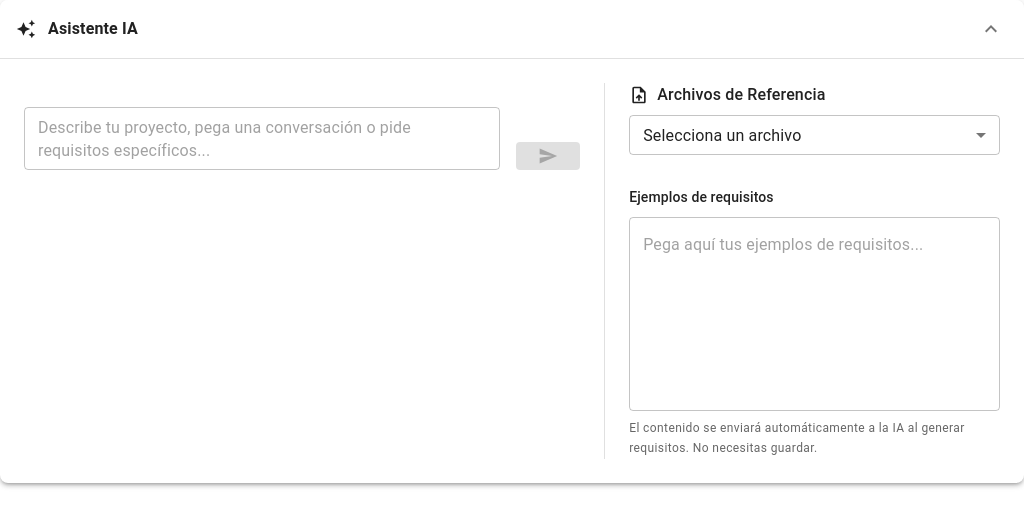
ChatArea › shows error message when sending fails
The width and height of the screenshot is (1024, 505).
Type "Mensaje fallido" into the text box with placeholder "Describe tu proyecto, pega una conversación o pide requisitos específicos...".
click(262, 138); type("Mensaje fallido")  # box [38,116,486,162]
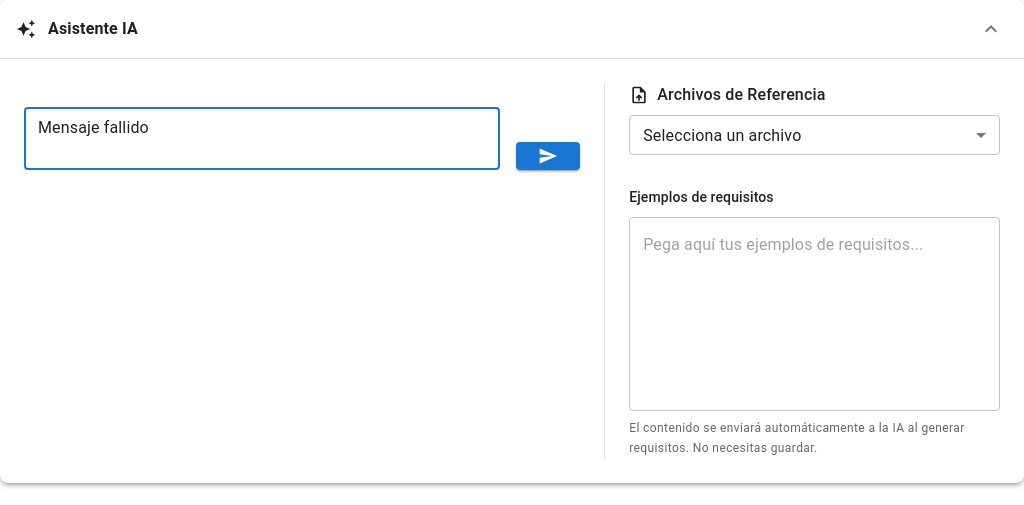
Click the button with test id "SendIcon".
click(548, 156)  # box [516,142,580,170]
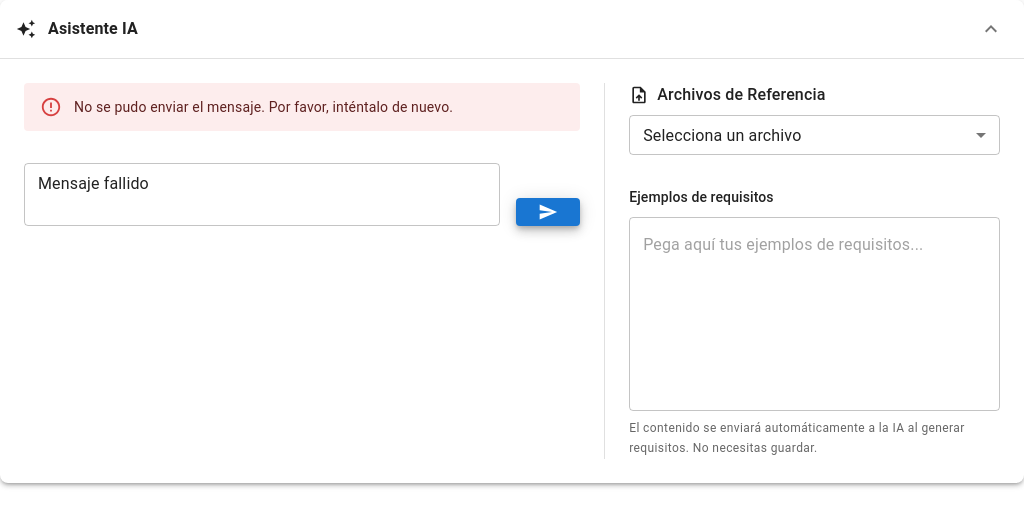
Expected: the text "No se pudo enviar el mensaje. Por favor, inténtalo de nuevo." is shown, [74,99,453,115]
